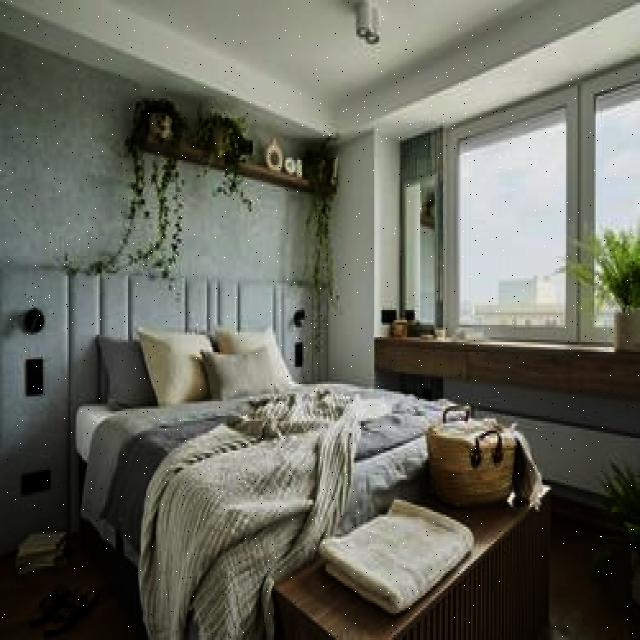bed: (84, 299, 452, 554)
